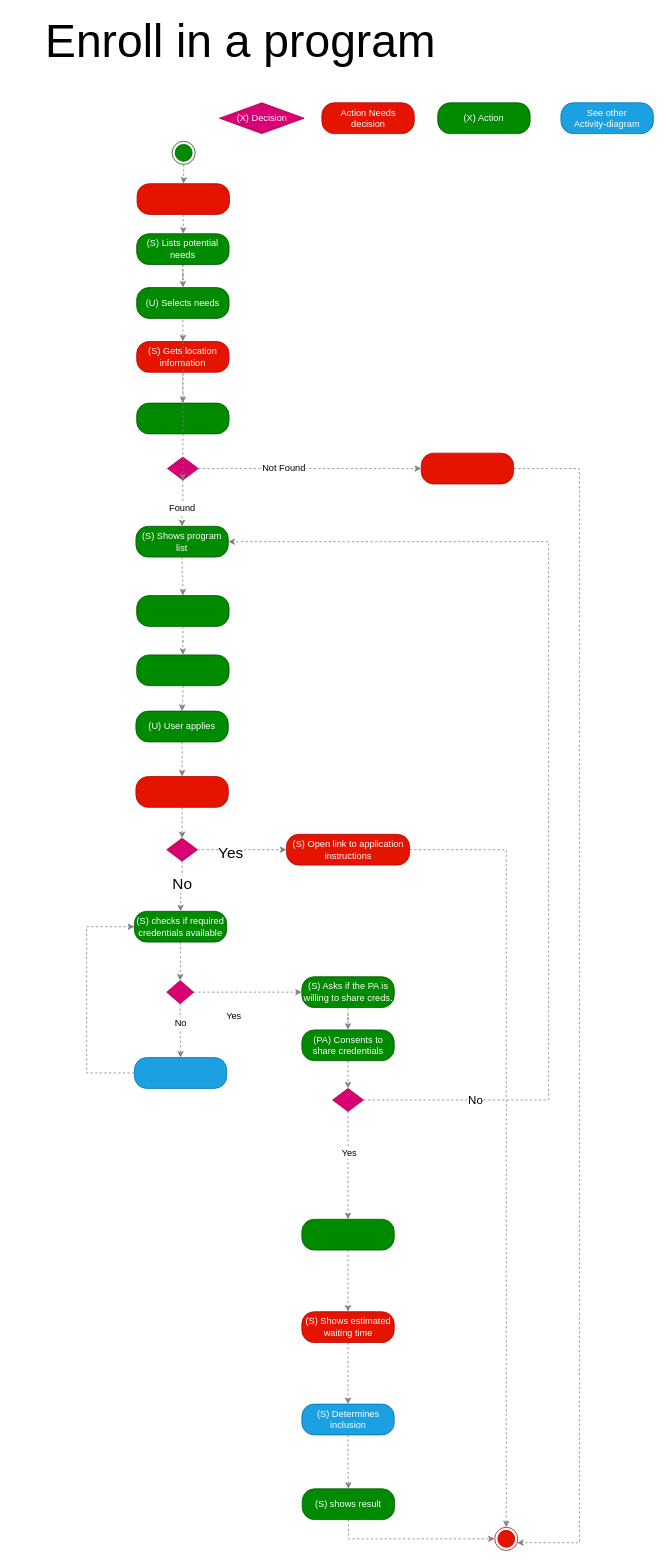
The diagram is 667 pixels wide and 1564 high, and some of its shapes have lost their labels. The shapes that lost their labels are listed below. From the top down, each one's centre as x and y in pixels, then its label:
At [182,198]: "(S) Asks PA what he needs".
At [182,418]: "(S) Lookup matching aid programs".
At [467,468]: "Request help / Provide feedback".
At [182,610]: "(U) Selects a program".
At [182,670]: "(S) Show program details".
At [181,791]: "(S) If referral program".
At [180,1072]: "(U) Get Credentials".
At [347,1234]: "(S) submit credentials".
